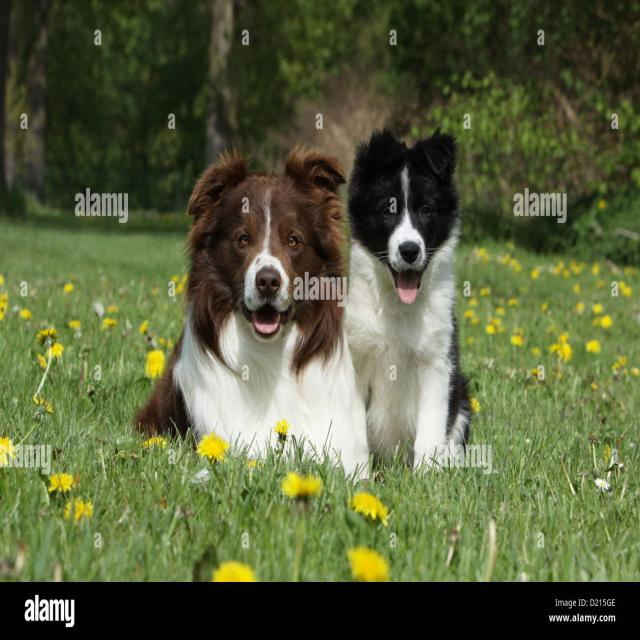ALASKAN_MALAMUTE: (124, 136, 376, 486), (328, 114, 487, 502)
